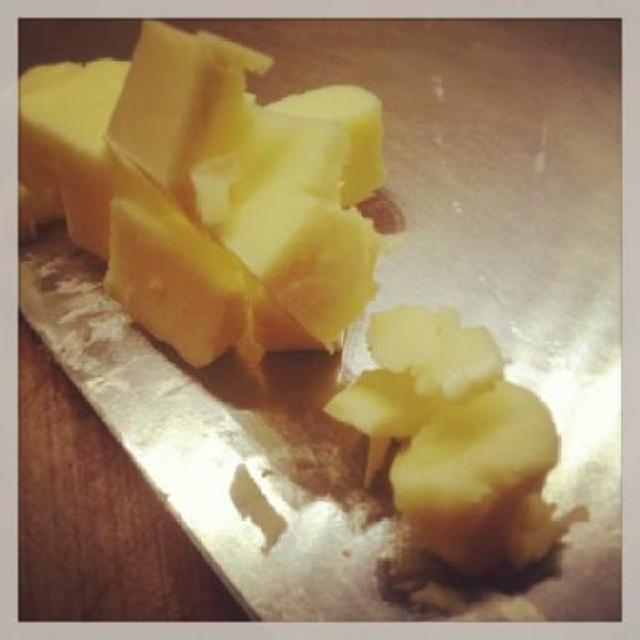Cheese: (18, 20, 384, 358), (324, 304, 592, 590)
